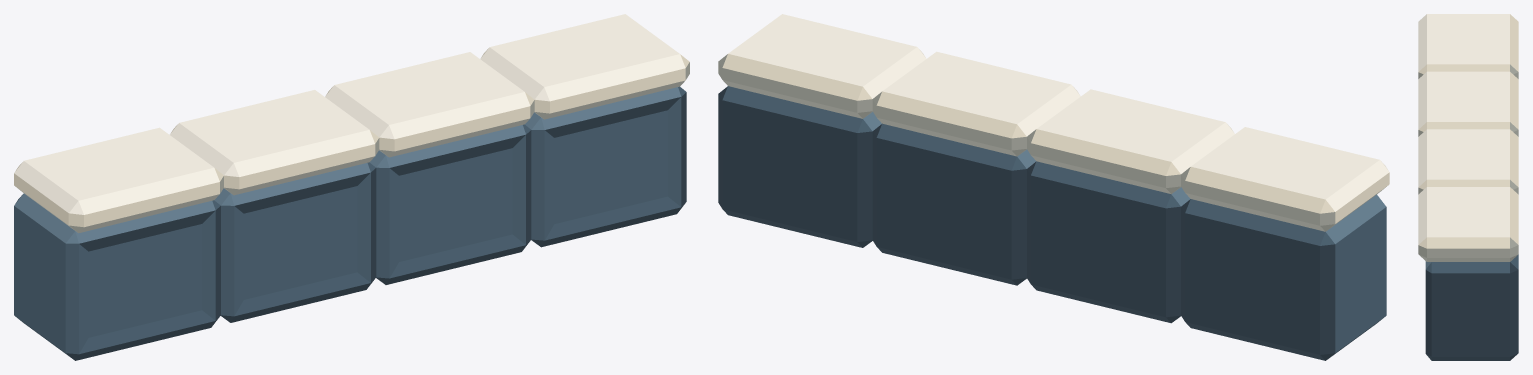
The model's file is Terrain_TopRun4.gltf.
3 renders of one model, left to right at view 1: azimuth 30°, elevation 25°; view 2: azimuth 150°, elevation 25°; view 3: azimuth 270°, elevation 25°, orthographic. The views are drawn at different scales.
Parts seen in each view (by area): view 1: Terrain_TopRun4_baked; view 2: Terrain_TopRun4_baked; view 3: Terrain_TopRun4_baked.
Part boxes in pixels (box(x1,y1,x2,y2)): Terrain_TopRun4_baked: box(14, 14, 689, 360); Terrain_TopRun4_baked: box(718, 14, 1389, 360); Terrain_TopRun4_baked: box(1418, 14, 1518, 360).
Size of the model in its own units: 4 by 1 by 0.735.
